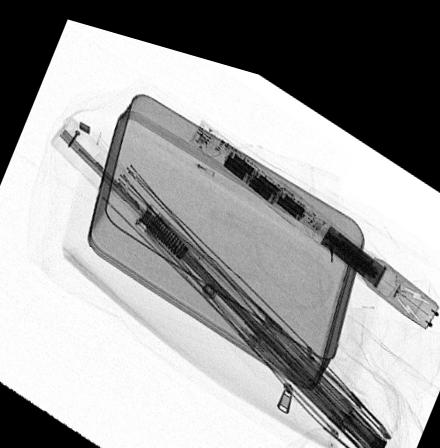Baton: (187, 107, 440, 309)
